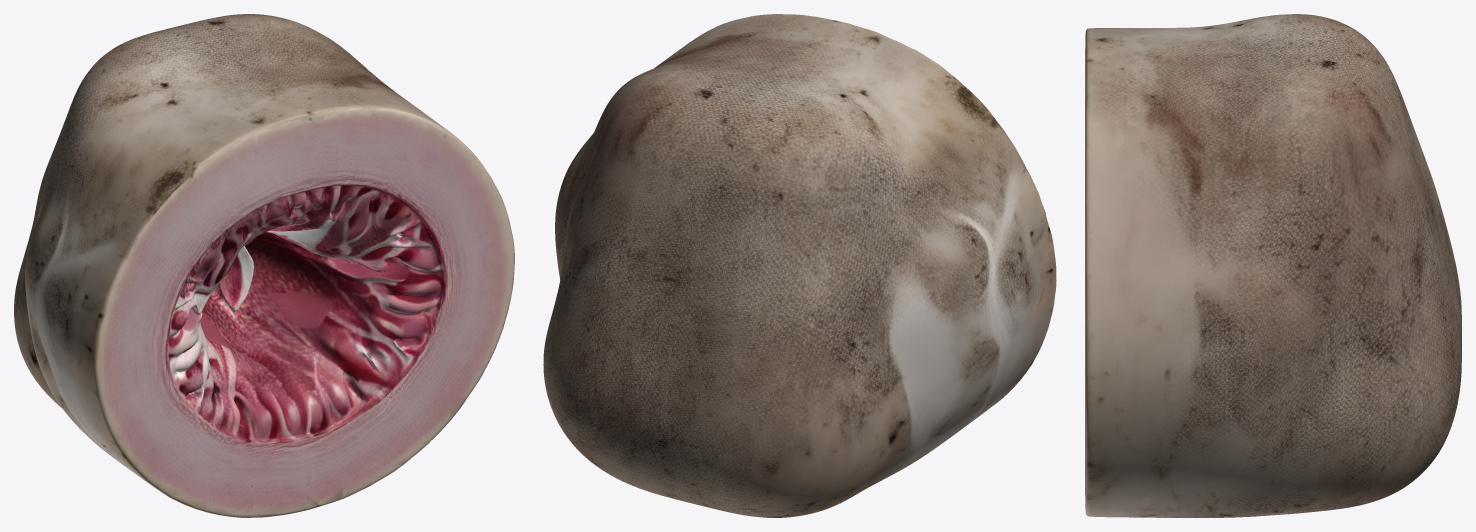
Rendered from vet_v2_organ_cow_rumen.glb.
3 renders of one model, left to right at view 1: azimuth 30°, elevation 25°; view 2: azimuth 150°, elevation 25°; view 3: azimuth 270°, elevation 25°, orthographic. The views are drawn at different scales.
Visible parts, largest first — view 1: model; view 2: model; view 3: model.
Boxes of the visible parts, x1=… form: model: x1=14, y1=14, x2=514, y2=517; model: x1=543, y1=14, x2=1056, y2=517; model: x1=1085, y1=14, x2=1461, y2=517.
Size of the model in its own units: 1.9 by 1.74 by 1.36.
Materials: 1 (1 with a texture image).
